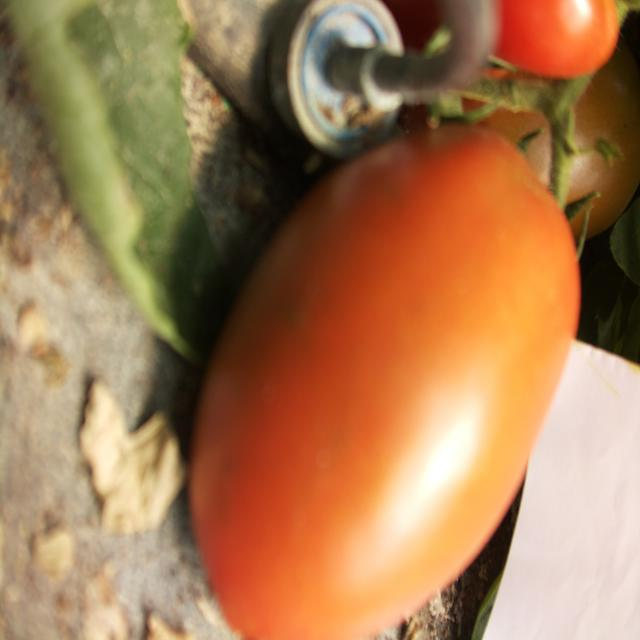kirmizi: (171, 69, 588, 640)
